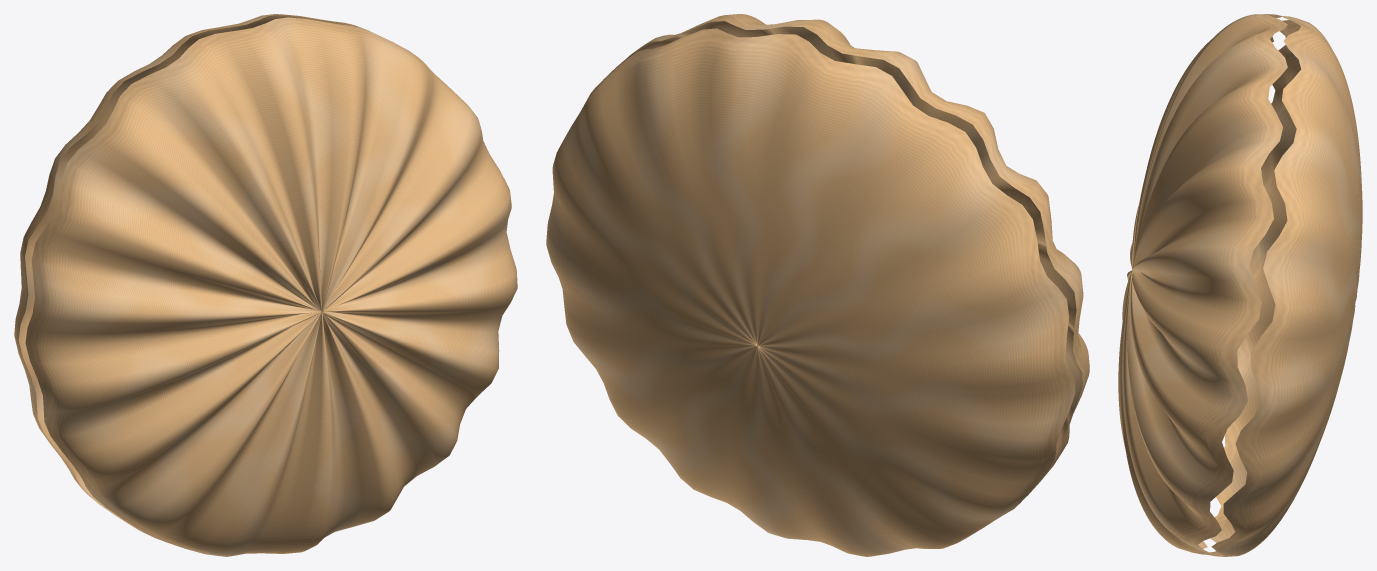
The model's file is cockle.glb.
3 views of the same model, side by side, from view 1: azimuth 30°, elevation 25°; view 2: azimuth 150°, elevation 25°; view 3: azimuth 270°, elevation 25° (orthographic). The views are drawn at different scales.
Parts seen in each view (by area): view 1: cockle.001; view 2: cockle.001; view 3: cockle.001.
Boxes of the visible parts, box(x1,y1,x2,y2) form: cockle.001: box(14, 14, 517, 556); cockle.001: box(546, 14, 1089, 556); cockle.001: box(1118, 14, 1362, 556).
Size of the model in its own units: 2.38 by 2.36 by 1.07.
Materials: 2 (2 with a texture image).
